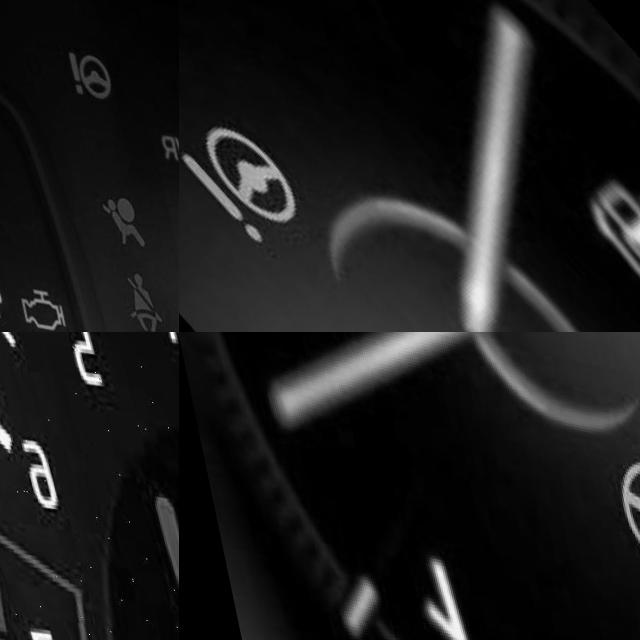Electronic Power Steering: (596, 433, 640, 555), (61, 36, 109, 89)
Electronic Power Steering Warning: (139, 476, 179, 640)
Seat Belt: (109, 256, 152, 322)
